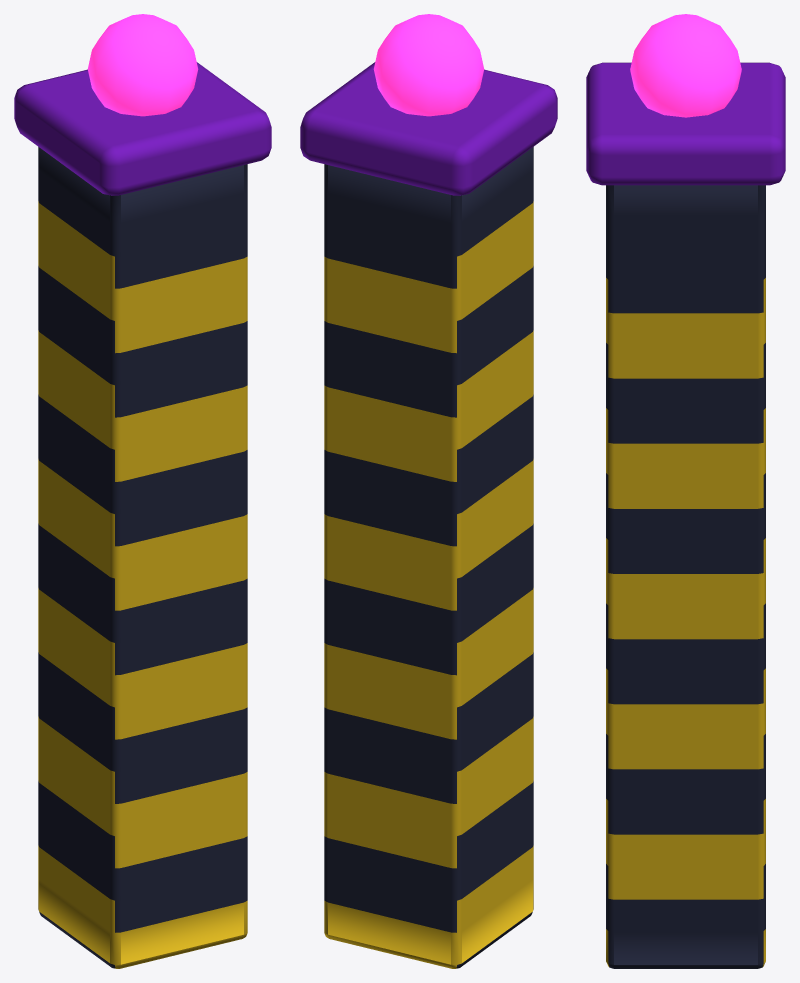
File: HAZ_LaserPost.glb
3 views of the same model, side by side, from view 1: azimuth 30°, elevation 25°; view 2: azimuth 150°, elevation 25°; view 3: azimuth 270°, elevation 25° (orthographic).
Parts seen in each view (by area): view 1: PostBody, Lamp; view 2: PostBody, Lamp; view 3: PostBody, Lamp.
Boxes of the visible parts, <box> form: PostBody: <box>14,62,271,968</box>; Lamp: <box>87,14,198,116</box>; PostBody: <box>300,62,557,968</box>; Lamp: <box>373,14,484,116</box>; PostBody: <box>586,62,785,968</box>; Lamp: <box>630,14,741,117</box>.
Size of the model in its own units: 0.5 by 2.54 by 0.5.
